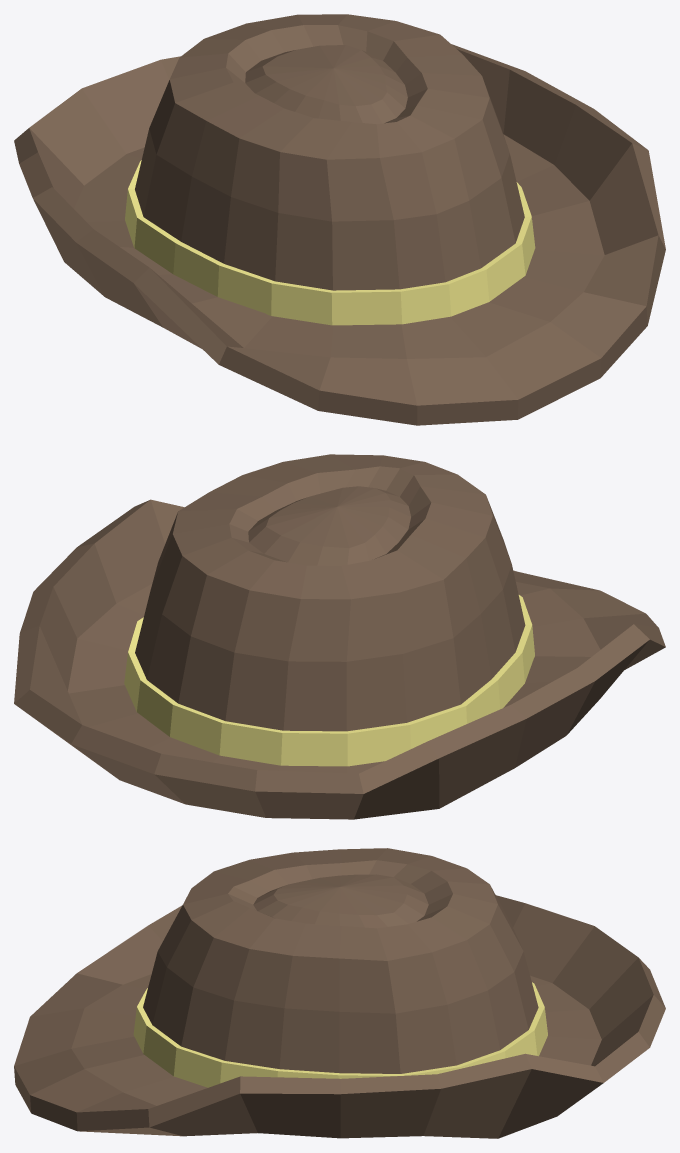
File: Hat_2.fbx
3 renders of one model, top to bottom at view 1: azimuth 30°, elevation 25°; view 2: azimuth 150°, elevation 25°; view 3: azimuth 270°, elevation 25°, orthographic. The views are drawn at different scales.
Visible parts, largest first — view 1: Hat_2; view 2: Hat_2; view 3: Hat_2.
Boxes of the visible parts, bbox=[...] form: Hat_2: bbox=[14, 14, 665, 425]; Hat_2: bbox=[14, 454, 665, 819]; Hat_2: bbox=[14, 848, 665, 1138].
Size of the model in its own units: 37.16 by 45.15 by 15.04.
